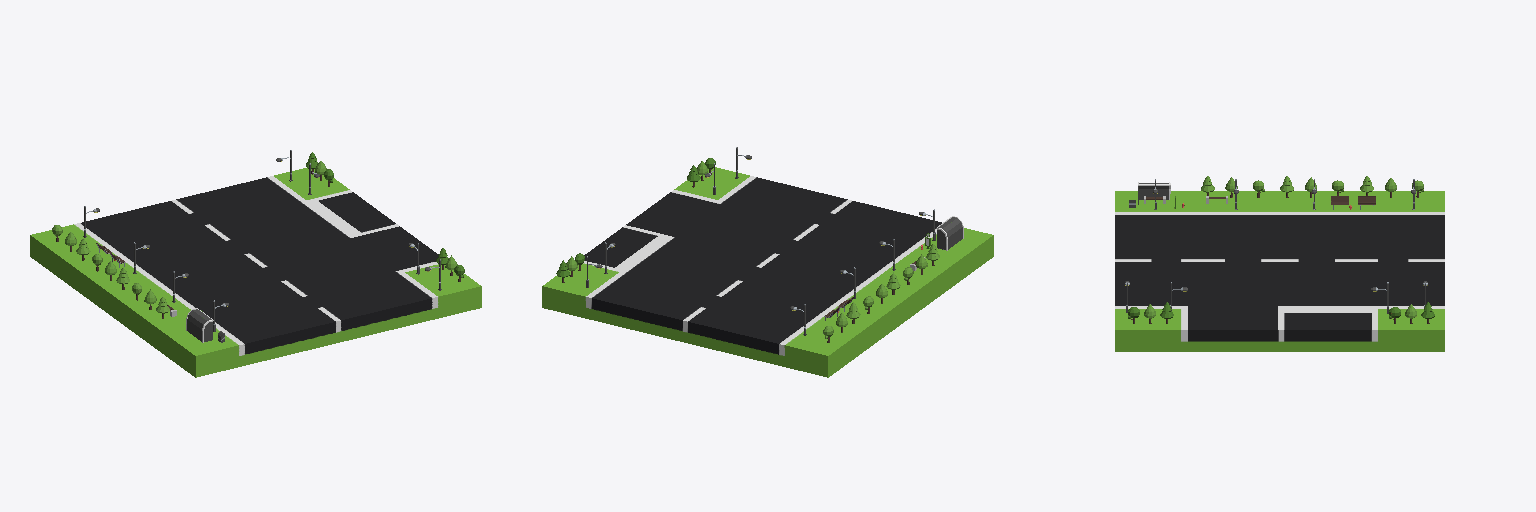
3 views of the same model, side by side, from view 1: azimuth 30°, elevation 25°; view 2: azimuth 150°, elevation 25°; view 3: azimuth 270°, elevation 25° (orthographic).
Visible parts, largest first — view 1: Object124; view 2: Object124; view 3: Object124.
Part boxes in pixels (x1,y1,x2,y2): Object124: (30, 150, 481, 377); Object124: (542, 147, 993, 377); Object124: (1115, 176, 1444, 351).
Bounding box in the file's own units: 2252 × 397 × 2252.
Materials: 1 (1 with a texture image).